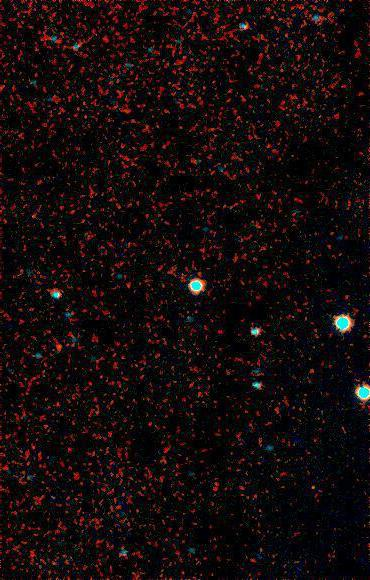star: (38, 334, 68, 364)
